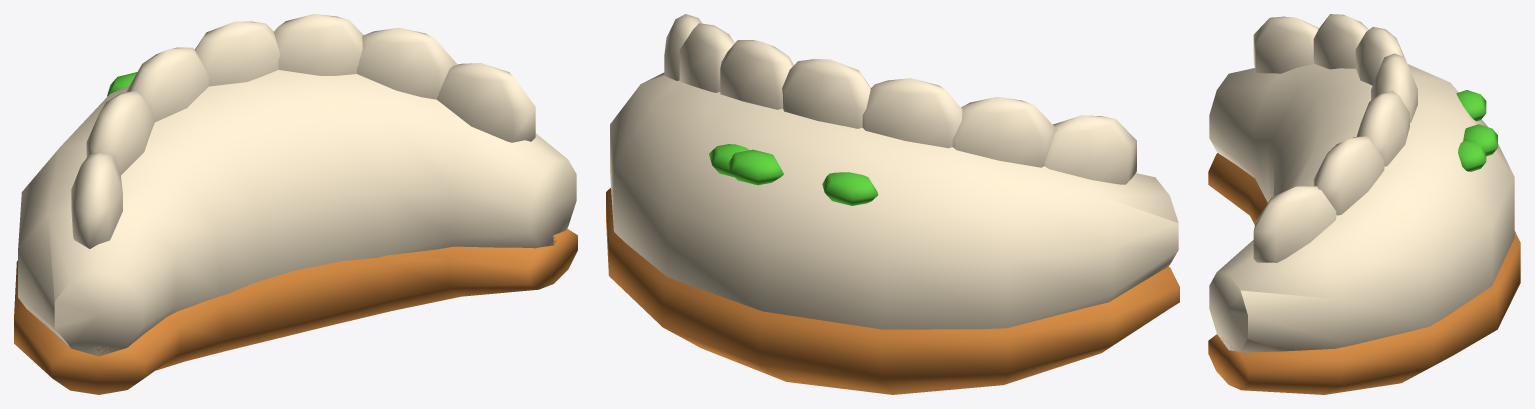
The model's file is Food_gyoza.glb.
The picture shows the model from 3 angles, left to right: view 1: azimuth 30°, elevation 25°; view 2: azimuth 150°, elevation 25°; view 3: azimuth 270°, elevation 25°; orthographic projection. The views are drawn at different scales.
Visible parts, largest first — view 1: Dough_FFF0D2, Toasted_D98A3D; view 2: Dough_FFF0D2, Toasted_D98A3D, Chive_5BD43A; view 3: Dough_FFF0D2, Toasted_D98A3D, Chive_5BD43A.
Part boxes in pixels (x1=…): Dough_FFF0D2: x1=18, y1=14, x2=576, y2=356; Toasted_D98A3D: x1=14, y1=228, x2=577, y2=394; Dough_FFF0D2: x1=610, y1=14, x2=1178, y2=329; Toasted_D98A3D: x1=606, y1=188, x2=1179, y2=394; Chive_5BD43A: x1=709, y1=144, x2=878, y2=205; Dough_FFF0D2: x1=1209, y1=14, x2=1514, y2=352; Toasted_D98A3D: x1=1208, y1=153, x2=1520, y2=394; Chive_5BD43A: x1=1456, y1=90, x2=1497, y2=171.
Size of the model in its own units: 1.95 by 1.06 by 1.11.
